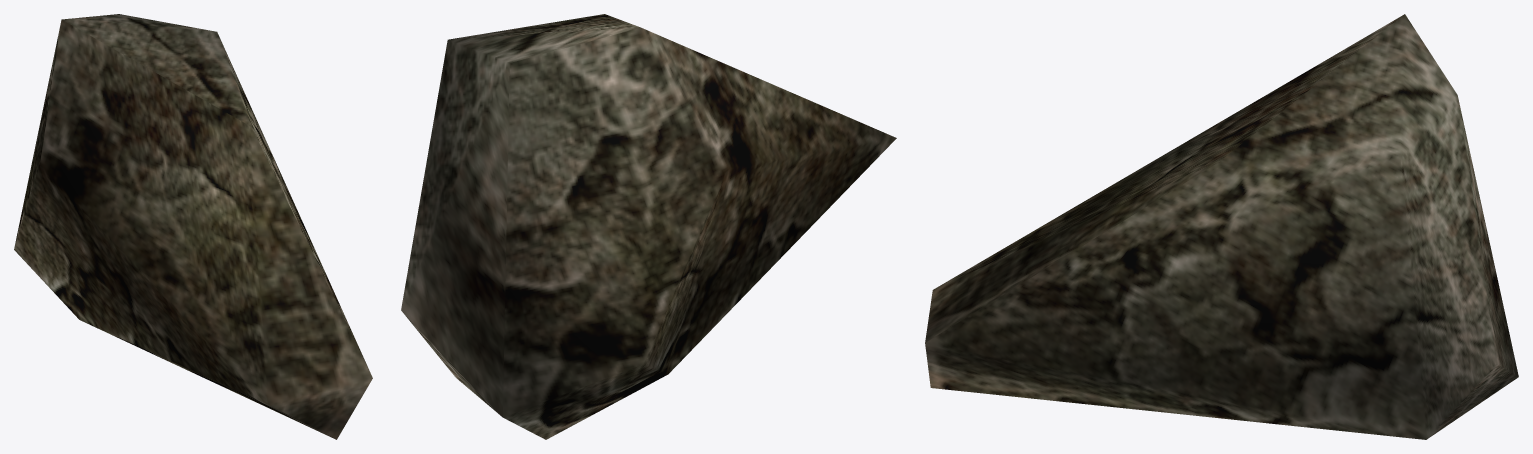
Rendered from MEP_Stones_01_c.fbx.
3 renders of one model, left to right at view 1: azimuth 30°, elevation 25°; view 2: azimuth 150°, elevation 25°; view 3: azimuth 270°, elevation 25°, orthographic. The views are drawn at different scales.
Visible parts, largest first — view 1: MEP_Stone_01_c; view 2: MEP_Stone_01_c; view 3: MEP_Stone_01_c.
Boxes of the visible parts, bbox=[...] form: MEP_Stone_01_c: bbox=[14, 14, 372, 439]; MEP_Stone_01_c: bbox=[401, 14, 896, 439]; MEP_Stone_01_c: bbox=[925, 14, 1518, 439].
Size of the model in its own units: 0.5739 by 0.8824 by 1.29.
